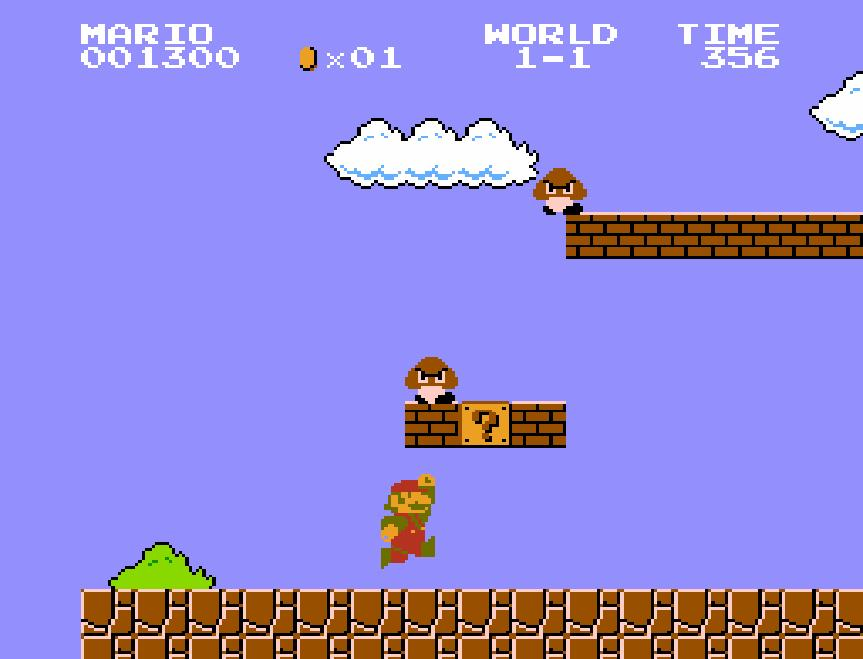big_mario: (379, 472, 437, 570)
